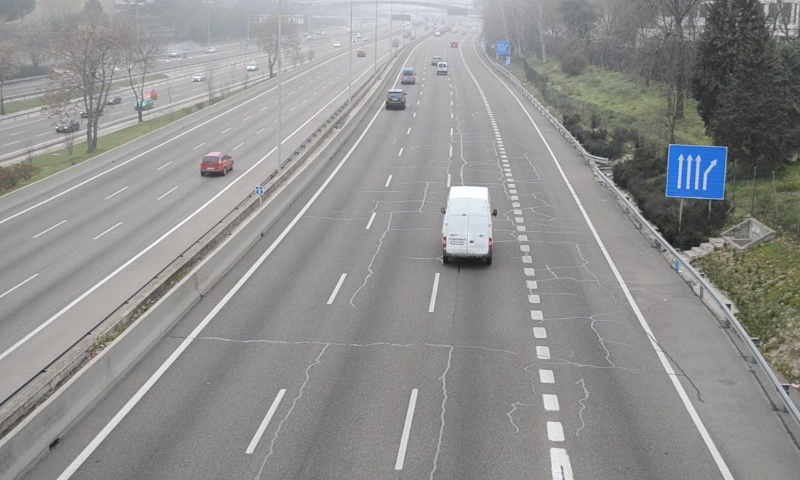car: (385, 89, 406, 110)
van: (442, 185, 494, 264), (400, 65, 415, 84)
